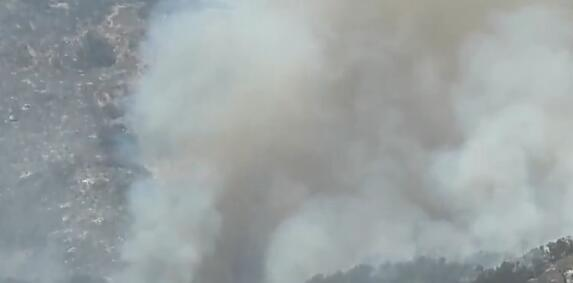yanwu: (98, 0, 572, 279)
